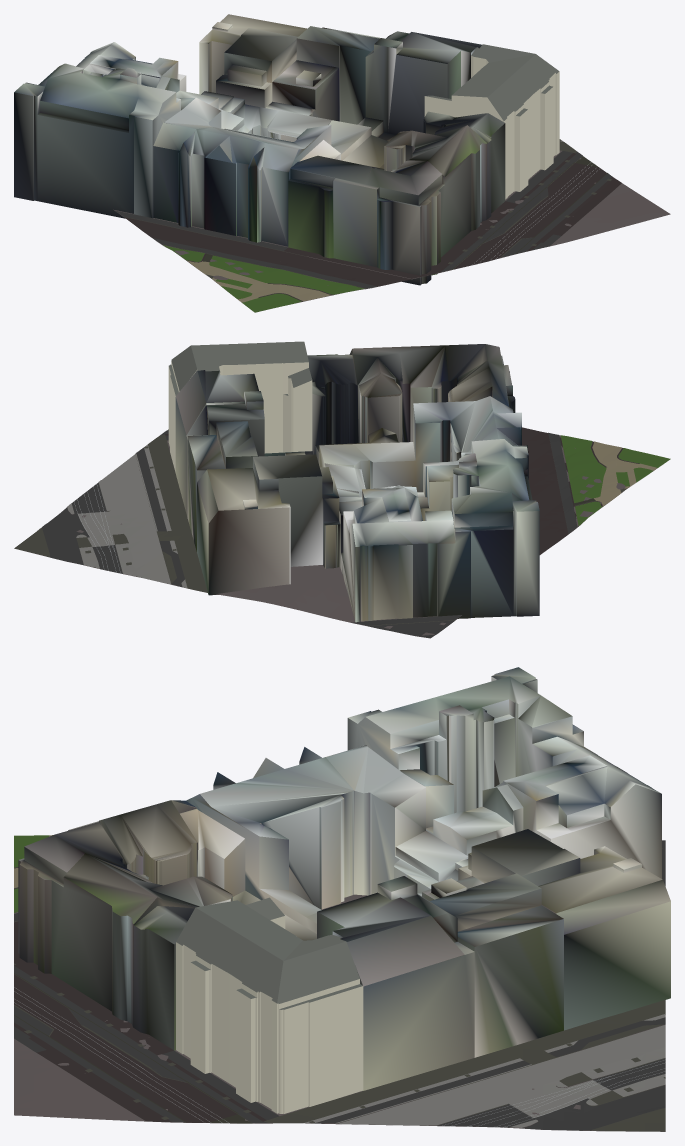
The picture shows the model from 3 angles, top to bottom: view 1: azimuth 30°, elevation 25°; view 2: azimuth 150°, elevation 25°; view 3: azimuth 270°, elevation 25°; orthographic projection. The views are drawn at different scales.
Visible parts, largest first — view 1: c_m05_p02; view 2: c_m05_p02; view 3: c_m05_p02.
Part boxes in pixels (x1=…): c_m05_p02: x1=14, y1=14, x2=670, y2=312; c_m05_p02: x1=14, y1=341, x2=670, y2=638; c_m05_p02: x1=14, y1=667, x2=670, y2=1131.
Bounding box in the file's own units: 145 × 37.12 × 129.
